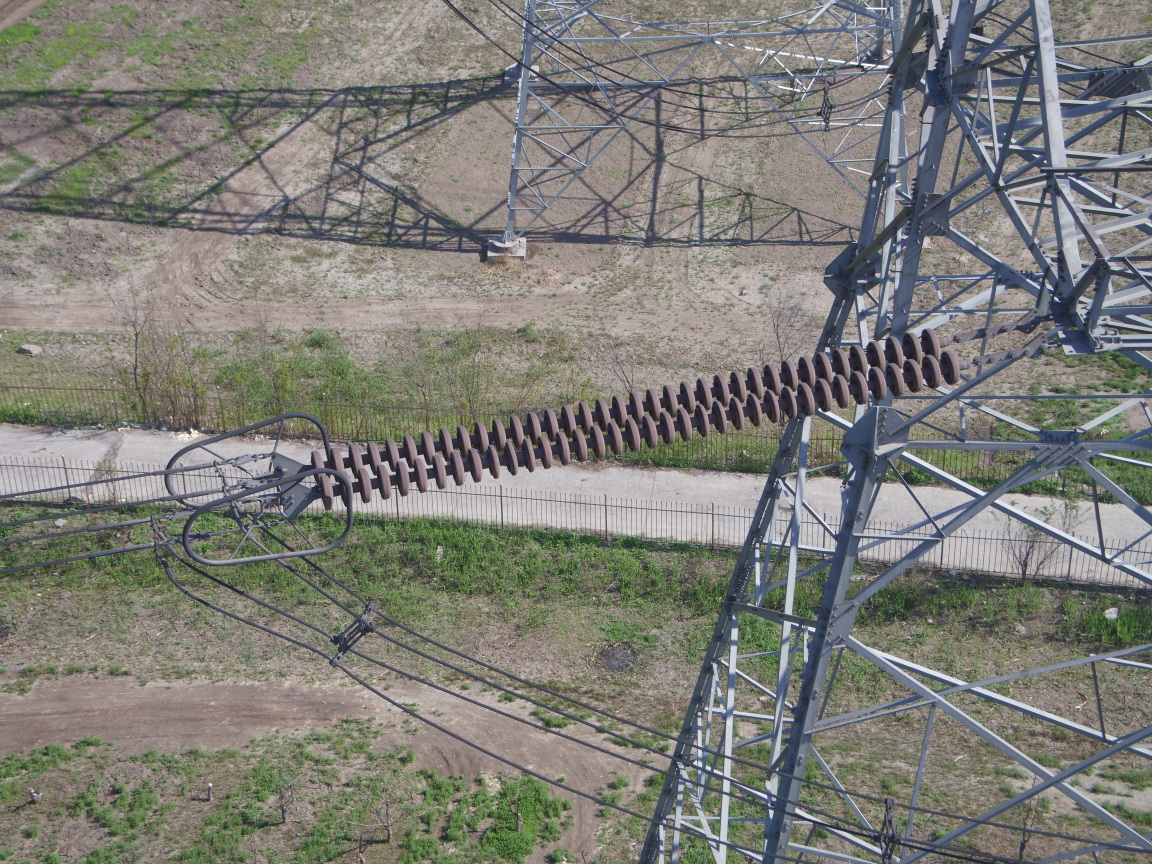insulator: (297, 325, 1003, 515)
